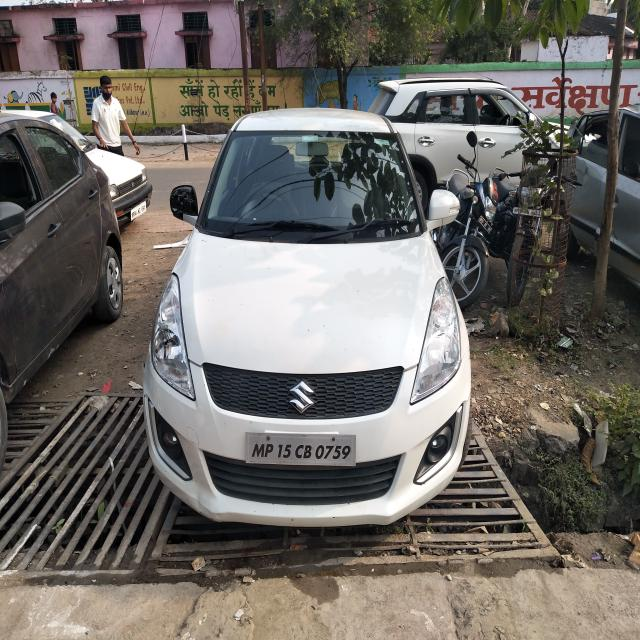damage: (168, 182, 198, 225)
